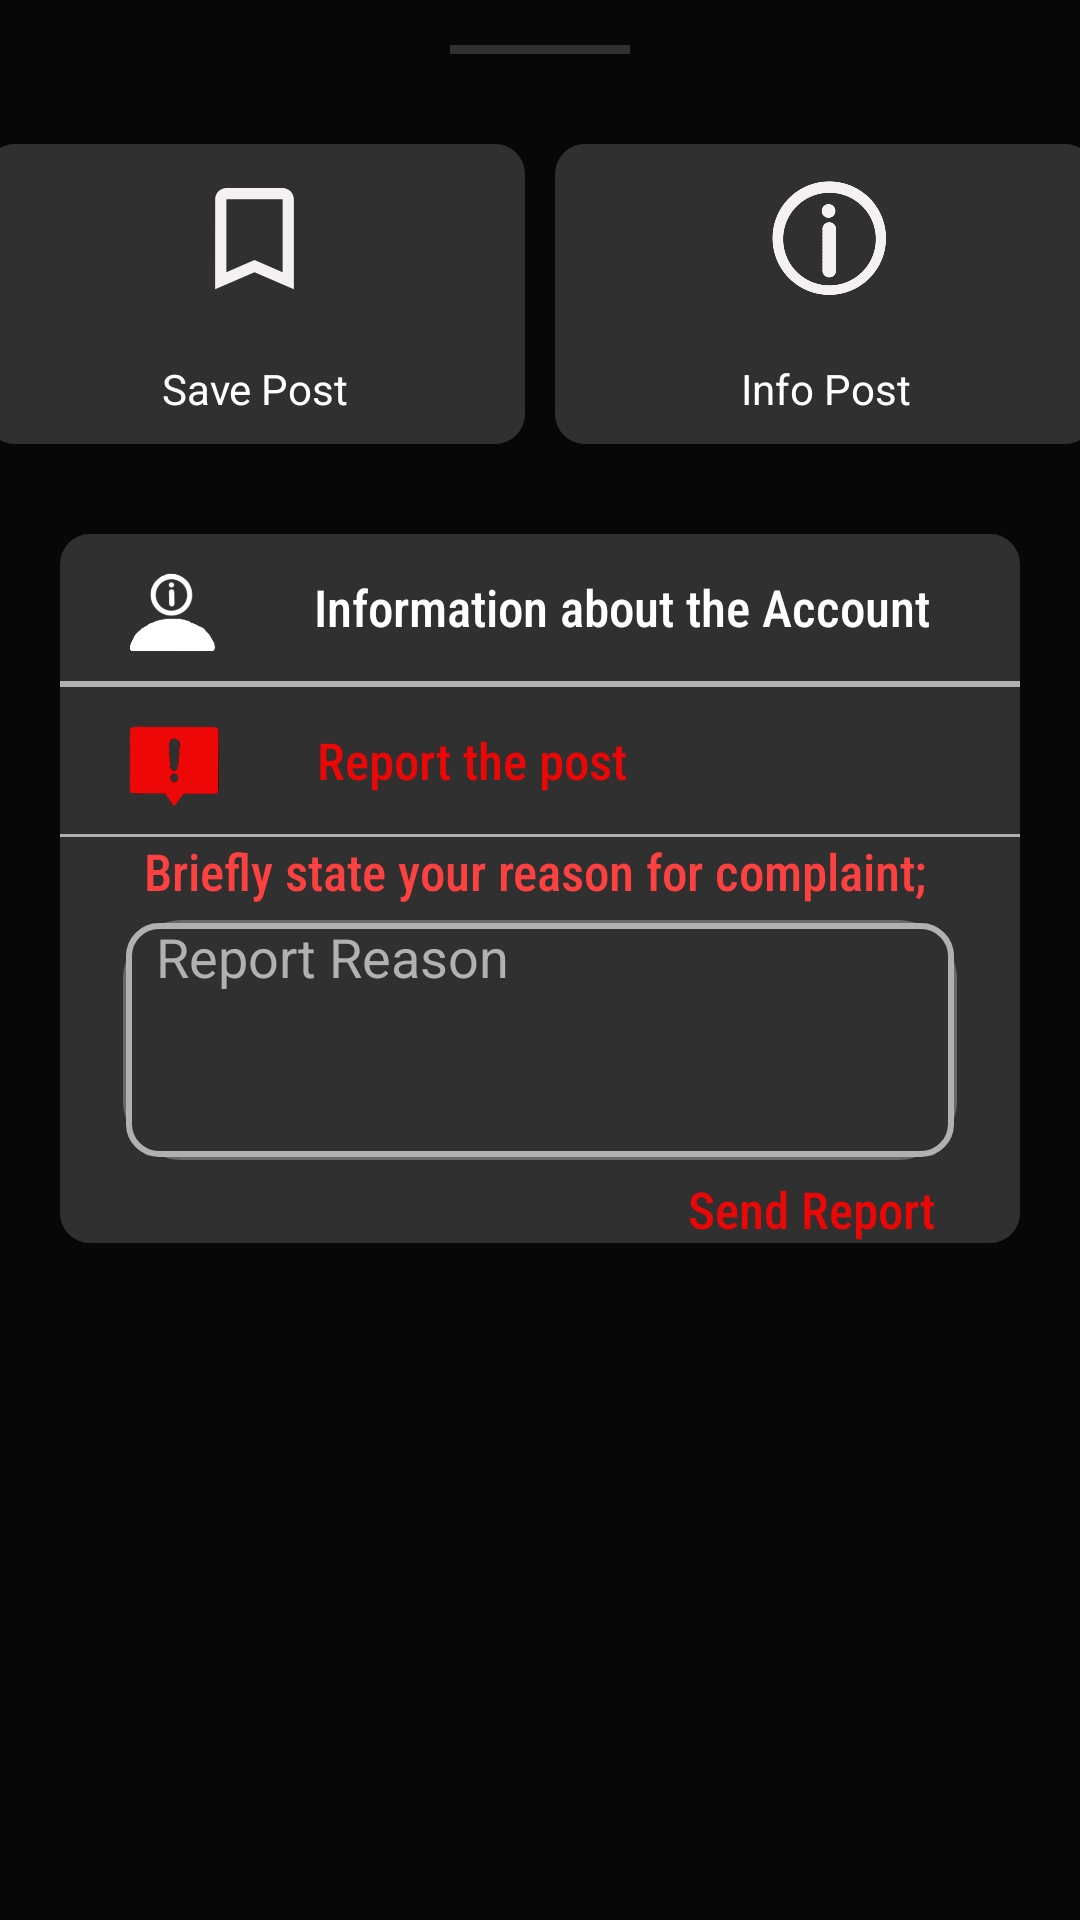

Icons on this 1080px x 1920px Android screen, each with its box as (x1, y1, x2, y2):
accountinfo: (130, 574, 215, 651)
postsave: (215, 188, 294, 289)
